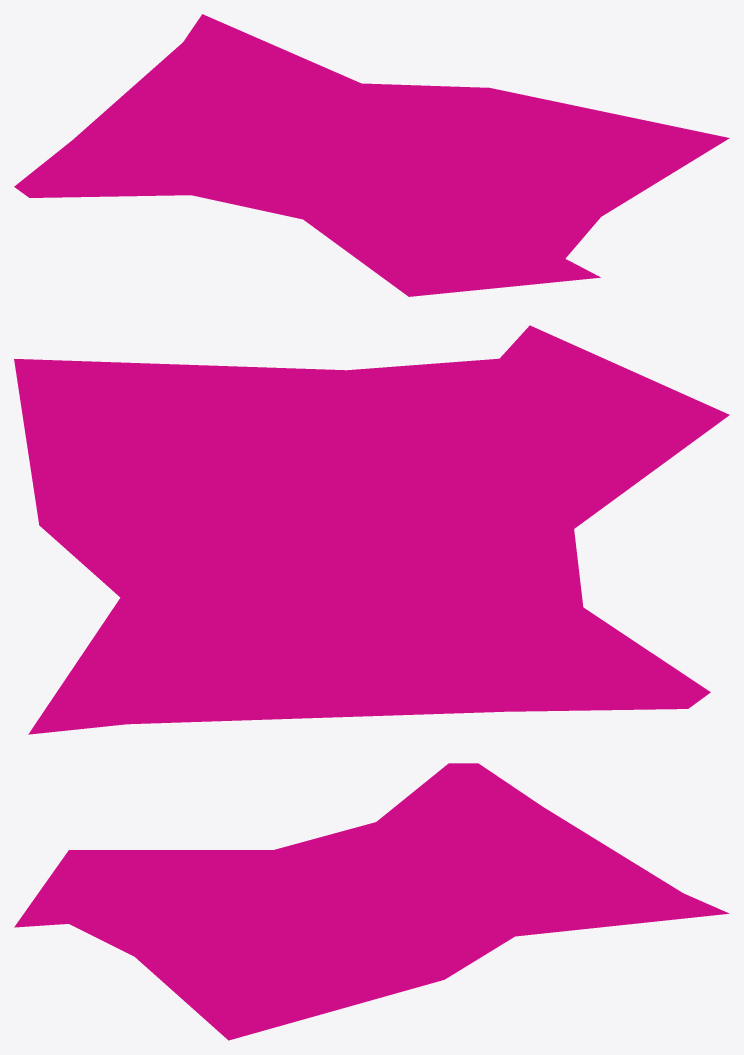
Rendered from Parchment_P_04.fbx.
3 views of the same model, one above another, from view 1: azimuth 30°, elevation 25°; view 2: azimuth 150°, elevation 25°; view 3: azimuth 270°, elevation 25° (orthographic). The views are drawn at different scales.
Visible parts, largest first — view 1: Parchment_P_04; view 2: Parchment_P_04; view 3: Parchment_P_04.
Part boxes in pixels (<box>): Parchment_P_04: <box>14,14,729,296</box>; Parchment_P_04: <box>14,325,729,734</box>; Parchment_P_04: <box>14,763,729,1040</box>.
Size of the model in its own units: 19.79 by 4.8e-15 by 21.61.
